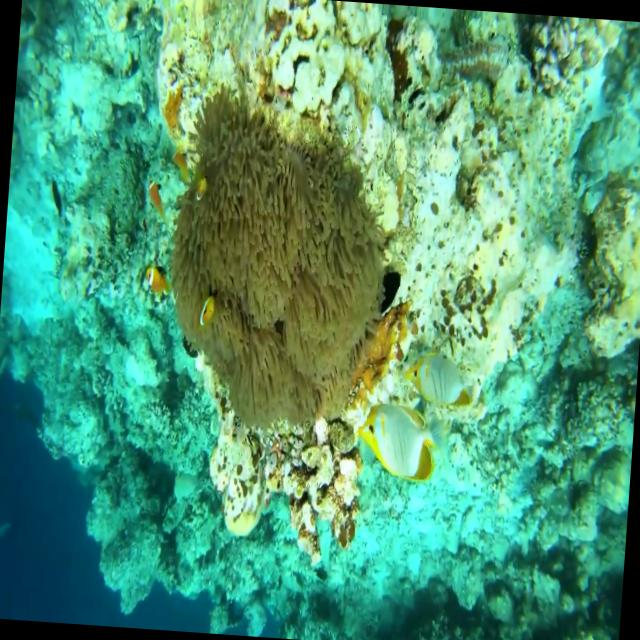fish: (351, 386, 444, 503), (166, 154, 212, 206), (140, 254, 176, 308), (141, 174, 170, 230), (192, 286, 222, 338)
